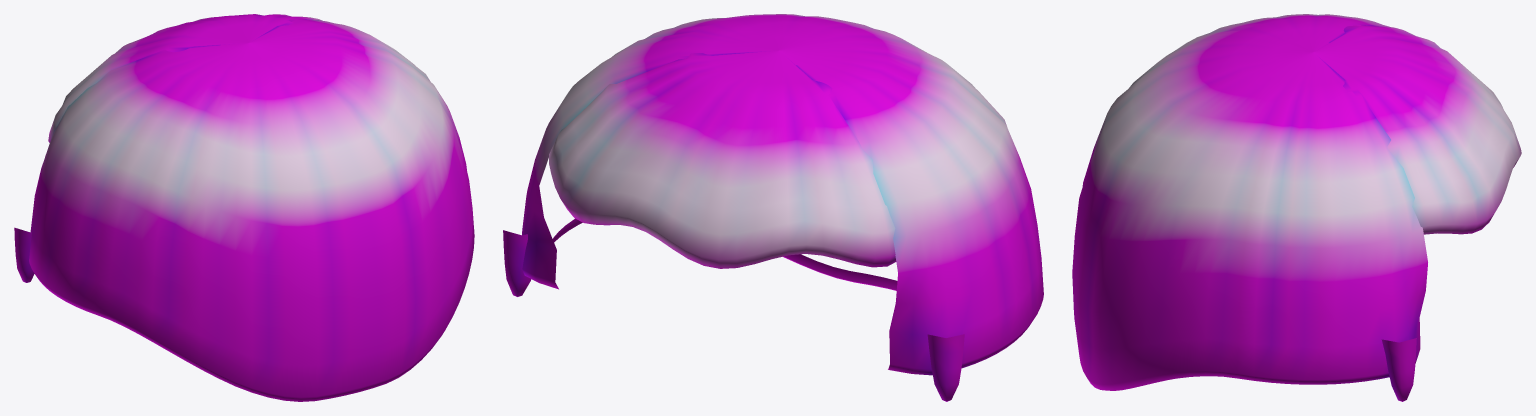
File: buzz_mid.glb
3 views of the same model, side by side, from view 1: azimuth 30°, elevation 25°; view 2: azimuth 150°, elevation 25°; view 3: azimuth 270°, elevation 25° (orthographic). The views are drawn at different scales.
Parts seen in each view (by area): view 1: buzz; view 2: buzz; view 3: buzz.
Boxes of the visible parts, x1,y1,x2,y2 form: buzz: (14, 14, 474, 401); buzz: (503, 14, 1043, 401); buzz: (1072, 14, 1521, 401).
Bounding box in the file's own units: 0.8079 × 0.5356 × 0.7068.
